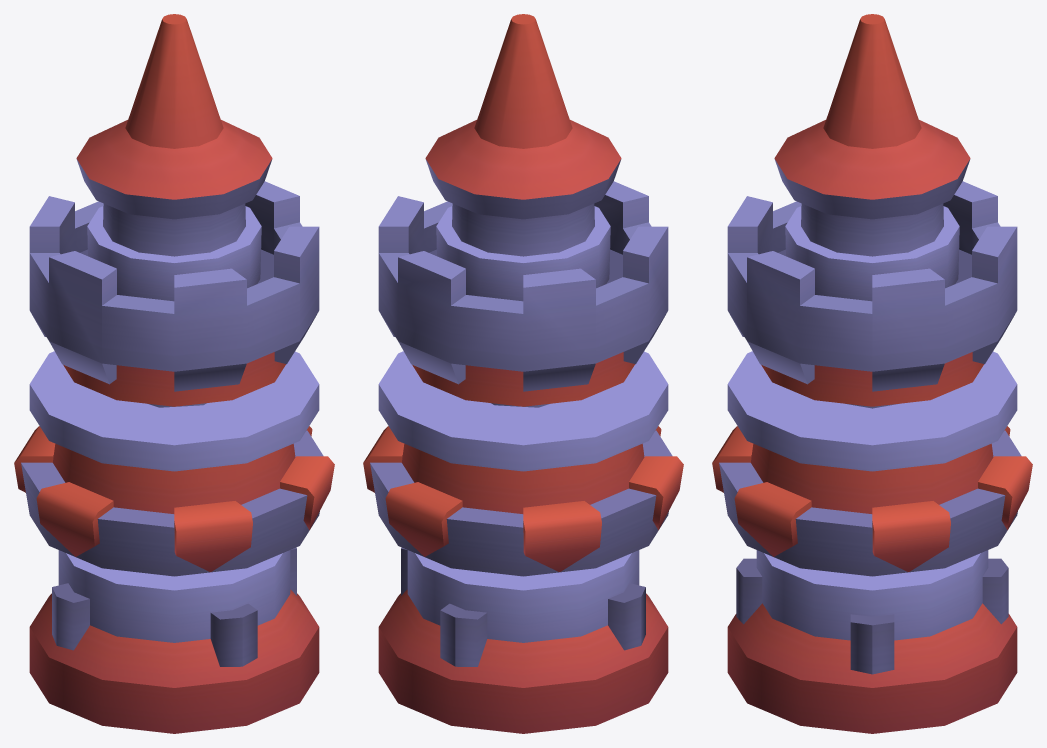
The model's file is tower-2-1.glb.
The picture shows the model from 3 angles, left to right: view 1: azimuth 30°, elevation 25°; view 2: azimuth 150°, elevation 25°; view 3: azimuth 270°, elevation 25°; orthographic projection.
Visible parts, largest first — view 1: tower:2-1; view 2: tower:2-1; view 3: tower:2-1.
Boxes of the visible parts, left/top/right/bottom form: tower:2-1: left=14, top=14, right=334, bottom=733; tower:2-1: left=363, top=14, right=683, bottom=733; tower:2-1: left=712, top=14, right=1032, bottom=733.
Size of the model in its own units: 1.51 by 3.4 by 1.51.
Materials: 1 (1 with a texture image).
